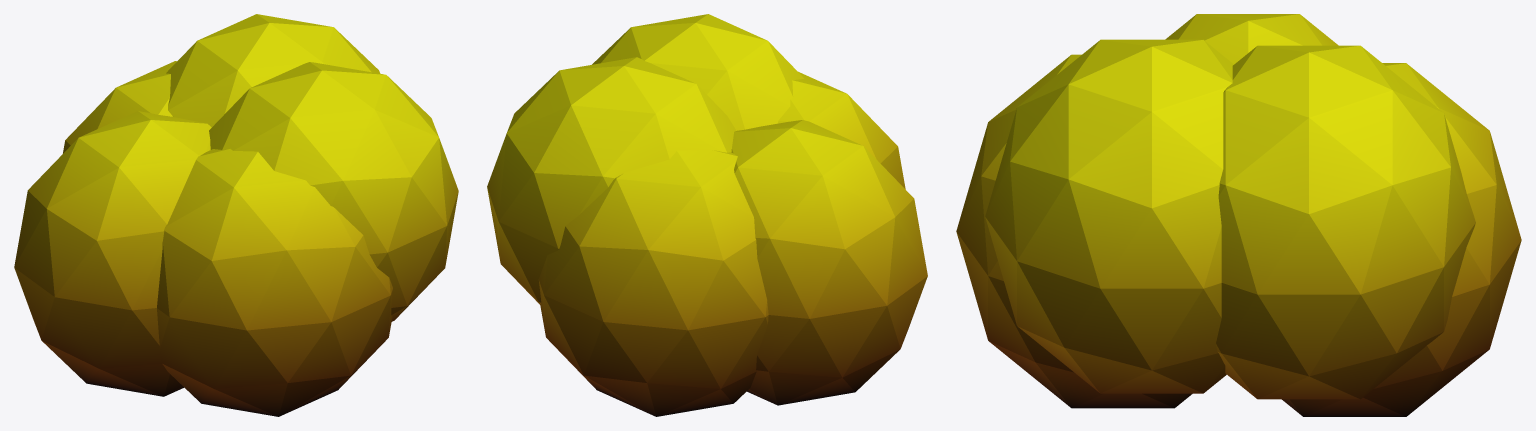
File: shrub.glb
3 renders of one model, left to right at view 1: azimuth 30°, elevation 25°; view 2: azimuth 150°, elevation 25°; view 3: azimuth 270°, elevation 25°, orthographic. The views are drawn at different scales.
Visible parts, largest first — view 1: leaves_shrub.004, leaves_shrub.002, leaves_shrub.001, leaves_shrub.003, leaves_shrub; view 2: leaves_shrub, leaves_shrub.002, leaves_shrub.003, leaves_shrub.001, leaves_shrub.004; view 3: leaves_shrub.003, leaves_shrub.001, leaves_shrub, leaves_shrub.004, leaves_shrub.002.
Boxes of the visible parts, <box> form: leaves_shrub.004: <box>157,149,392,416</box>; leaves_shrub.002: <box>14,111,211,396</box>; leaves_shrub.001: <box>209,62,458,321</box>; leaves_shrub.003: <box>166,14,380,127</box>; leaves_shrub: <box>63,61,176,153</box>; leaves_shrub: <box>538,149,768,416</box>; leaves_shrub.002: <box>731,120,927,405</box>; leaves_shrub.003: <box>487,57,736,304</box>; leaves_shrub.001: <box>592,14,804,130</box>; leaves_shrub.004: <box>778,71,905,188</box>; leaves_shrub.003: <box>1216,45,1475,399</box>; leaves_shrub.001: <box>985,39,1233,393</box>; leaves_shrub: <box>1282,63,1521,416</box>; leaves_shrub.004: <box>956,54,1192,408</box>; leaves_shrub.002: <box>1165,14,1338,64</box>.
Bounding box in the file's own units: 1.32 × 1.05 × 1.36.
